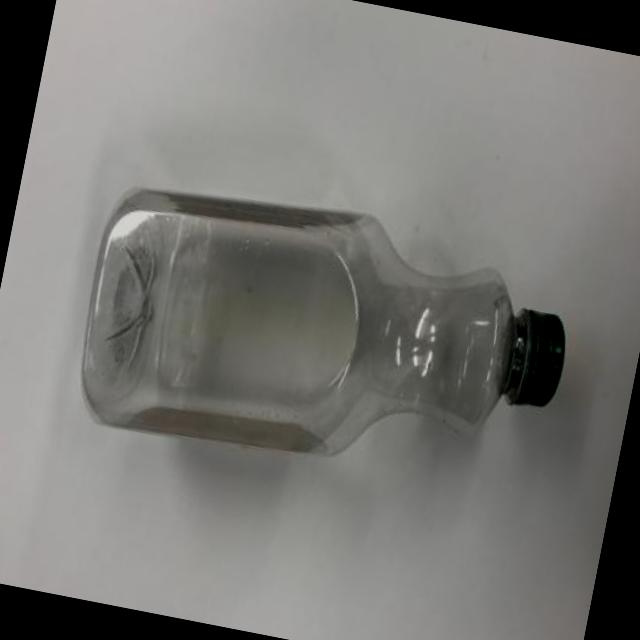Recycle: (68, 165, 585, 507)
